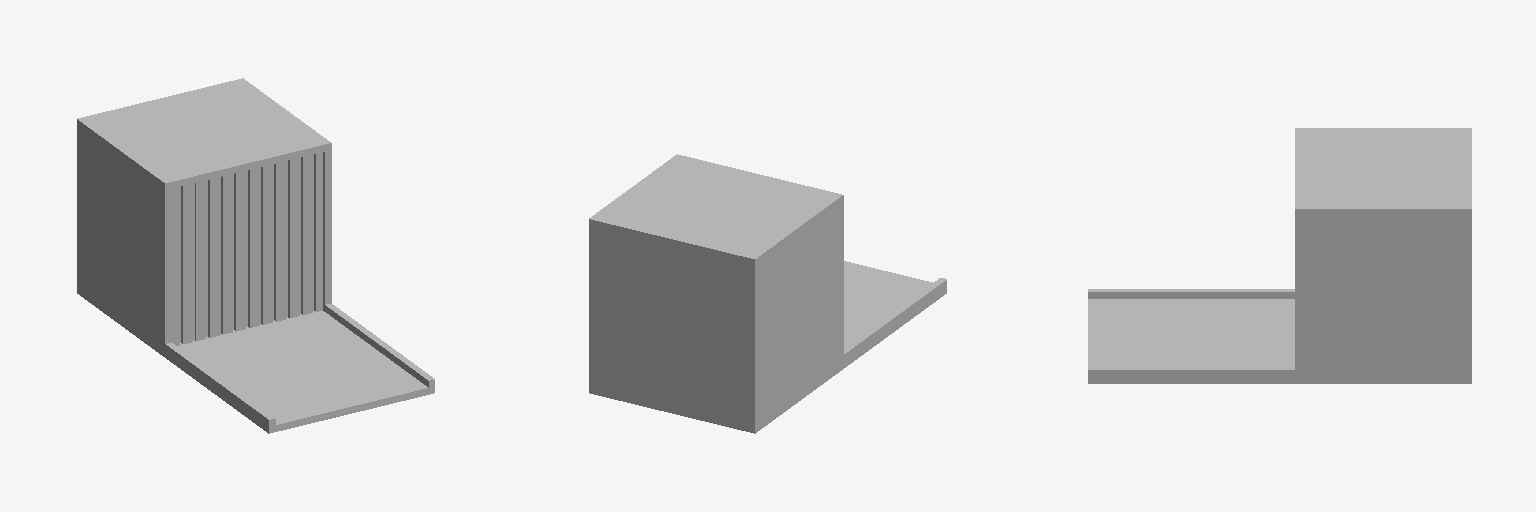
Rendered from shipping conveyor.obj.
The picture shows the model from 3 angles: view 1: azimuth 30°, elevation 25°; view 2: azimuth 150°, elevation 25°; view 3: azimuth 270°, elevation 25°; orthographic projection.
Visible parts, largest first — view 1: object 1; view 2: object 1; view 3: object 1.
Part boxes in pixels (x1,y1,x2,y2): object 1: (77,78,434,433); object 1: (589,154,946,433); object 1: (1088,128,1471,383).
Size of the model in its own units: 5 by 5 by 10.